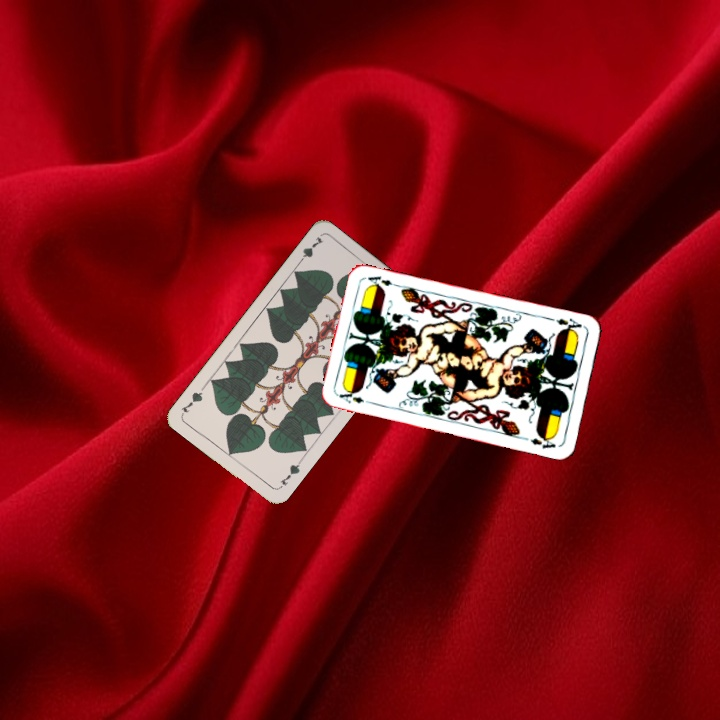EA: (335, 387, 375, 406), (552, 314, 584, 335)
G7: (294, 233, 326, 267), (275, 456, 304, 491)
